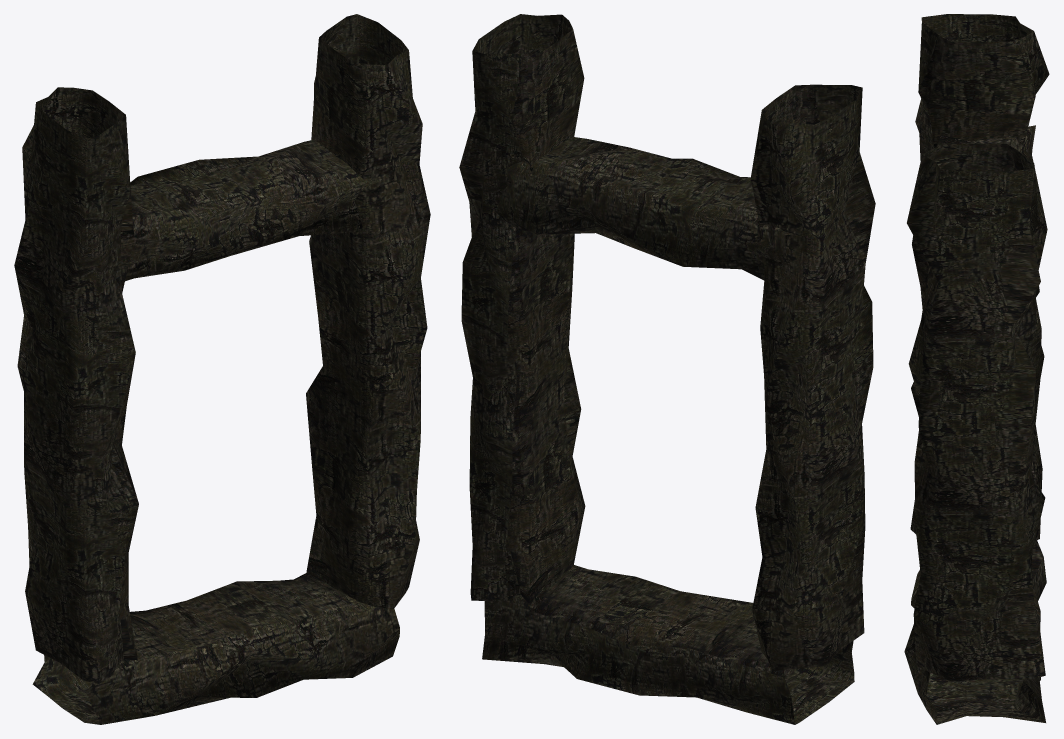
Rendered from door_frame.dae.
3 renders of one model, left to right at view 1: azimuth 30°, elevation 25°; view 2: azimuth 150°, elevation 25°; view 3: azimuth 270°, elevation 25°, orthographic. The views are drawn at different scales.
Visible parts, largest first — view 1: polySurface34; view 2: polySurface34; view 3: polySurface34.
Boxes of the visible parts, x1=… form: polySurface34: x1=14, y1=14, x2=430, y2=724; polySurface34: x1=459, y1=14, x2=875, y2=724; polySurface34: x1=904, y1=14, x2=1049, y2=724.
Size of the model in its own units: 2.87 by 4.5 by 1.03.
